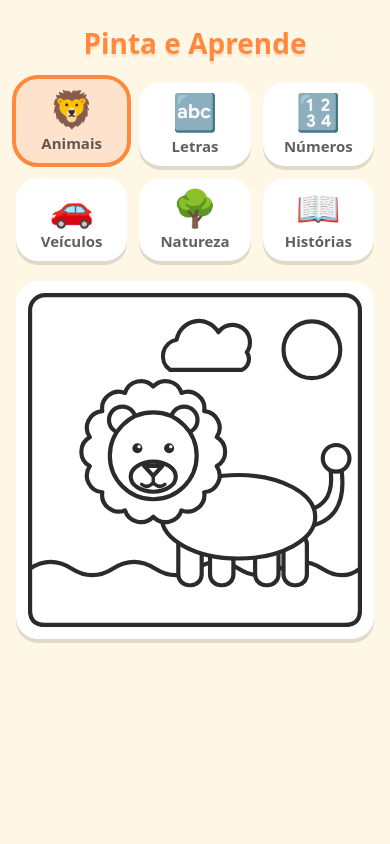
App › paints a zone with the selected colour, and undo reverts it
Later steps or results of the test are not shown.
Click the button named "O Leão".
click(195, 460)  # box [16, 281, 374, 639]
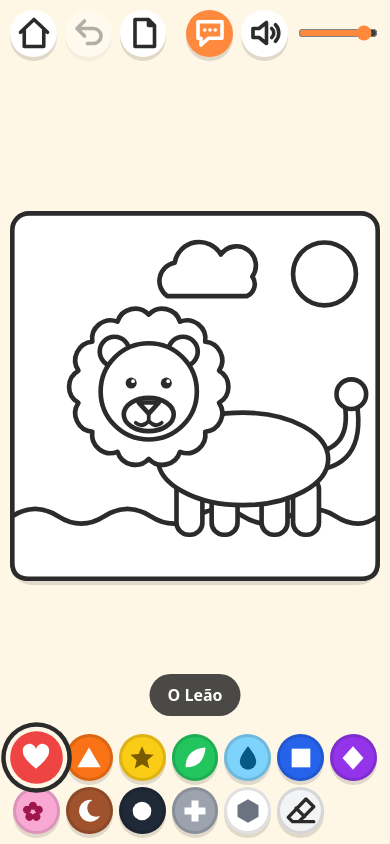
Click the button named "Amarelo".
click(142, 758)  # box [119, 734, 166, 781]
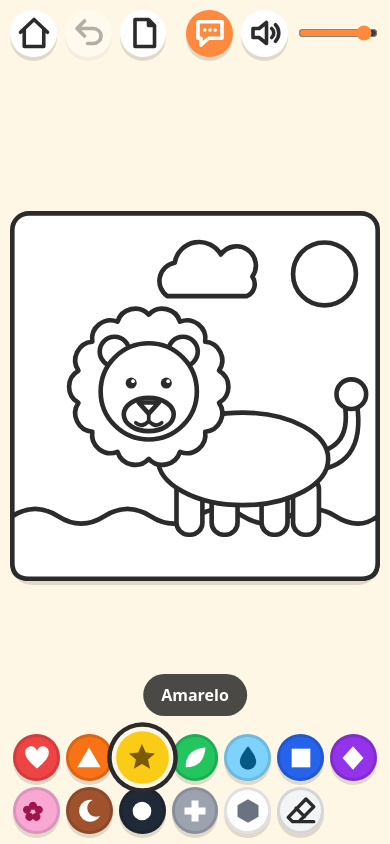
Expected: the text "Amarelo" is shown, [143, 674, 247, 716]
